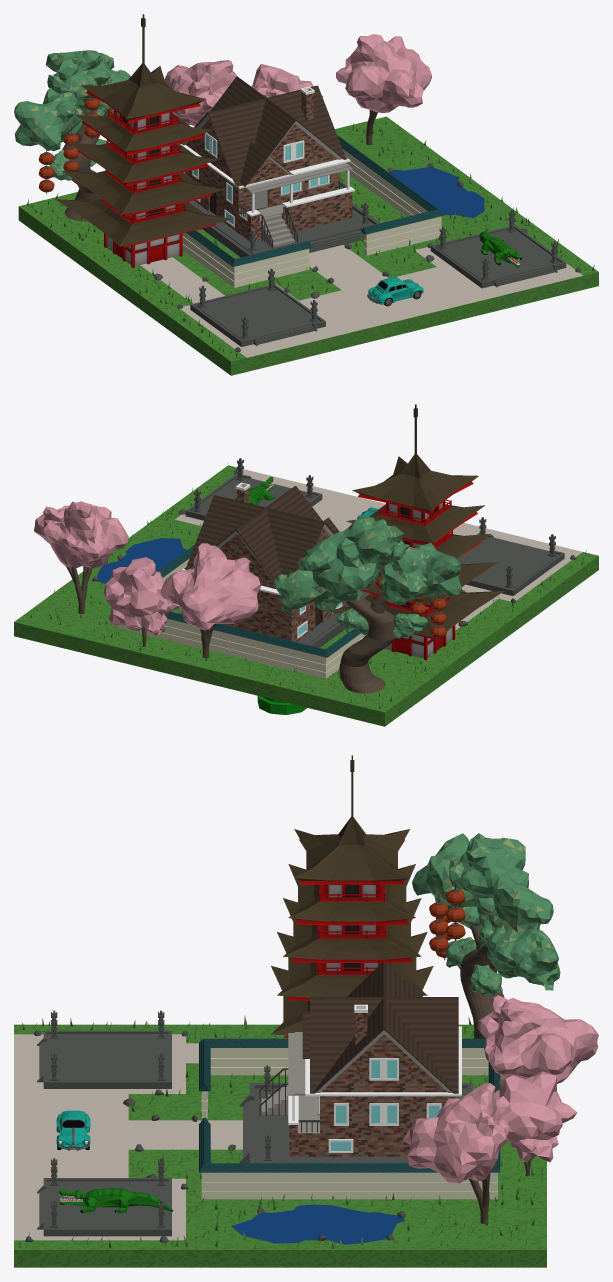
3 renders of one model, top to bottom at view 1: azimuth 30°, elevation 25°; view 2: azimuth 150°, elevation 25°; view 3: azimuth 270°, elevation 25°, orthographic. The views are drawn at different scales.
Visible parts, largest first — view 1: Cube.005, Cube.117, VEHICLES_VOLKSWAGEN, ANIMAL_COCODRILO; view 2: Cube.005, Cube.117, UNDERGROUND_PIPES, ANIMAL_COCODRILO; view 3: Cube.005, Cube.117, ANIMAL_COCODRILO, VEHICLES_VOLKSWAGEN.
Boxes of the visible parts, box(x1,y1,x2,y2) form: Cube.005: box(14, 14, 598, 375); Cube.117: box(179, 76, 354, 248); VEHICLES_VOLKSWAGEN: box(367, 276, 423, 306); ANIMAL_COCODRILO: box(479, 229, 521, 267); Cube.005: box(14, 404, 598, 726); Cube.117: box(181, 482, 347, 642); UNDERGROUND_PIPES: box(257, 696, 306, 714); ANIMAL_COCODRILO: box(235, 476, 275, 505); Cube.005: box(14, 755, 598, 1267); Cube.117: box(259, 961, 461, 1156); ANIMAL_COCODRILO: box(58, 1188, 173, 1213); VEHICLES_VOLKSWAGEN: box(56, 1110, 90, 1150).
Bounding box in the file's own units: 4528 × 3273 × 4389.
36 materials, 6 textured.
